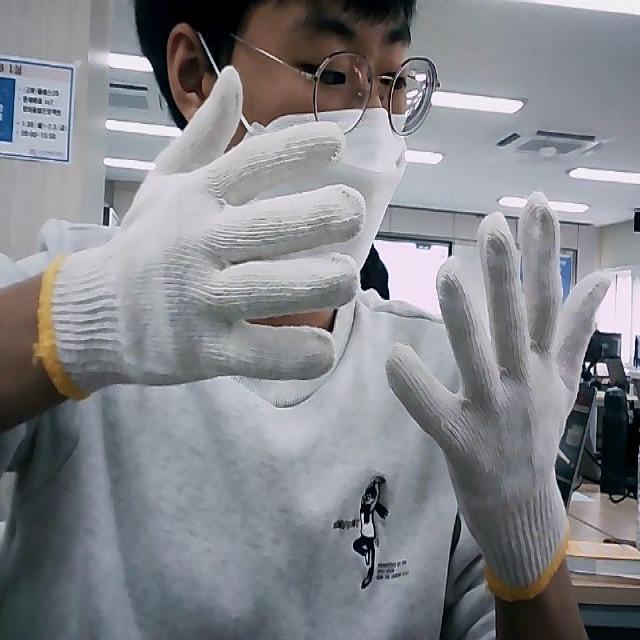gloves: (38, 67, 366, 401), (384, 190, 612, 599)
